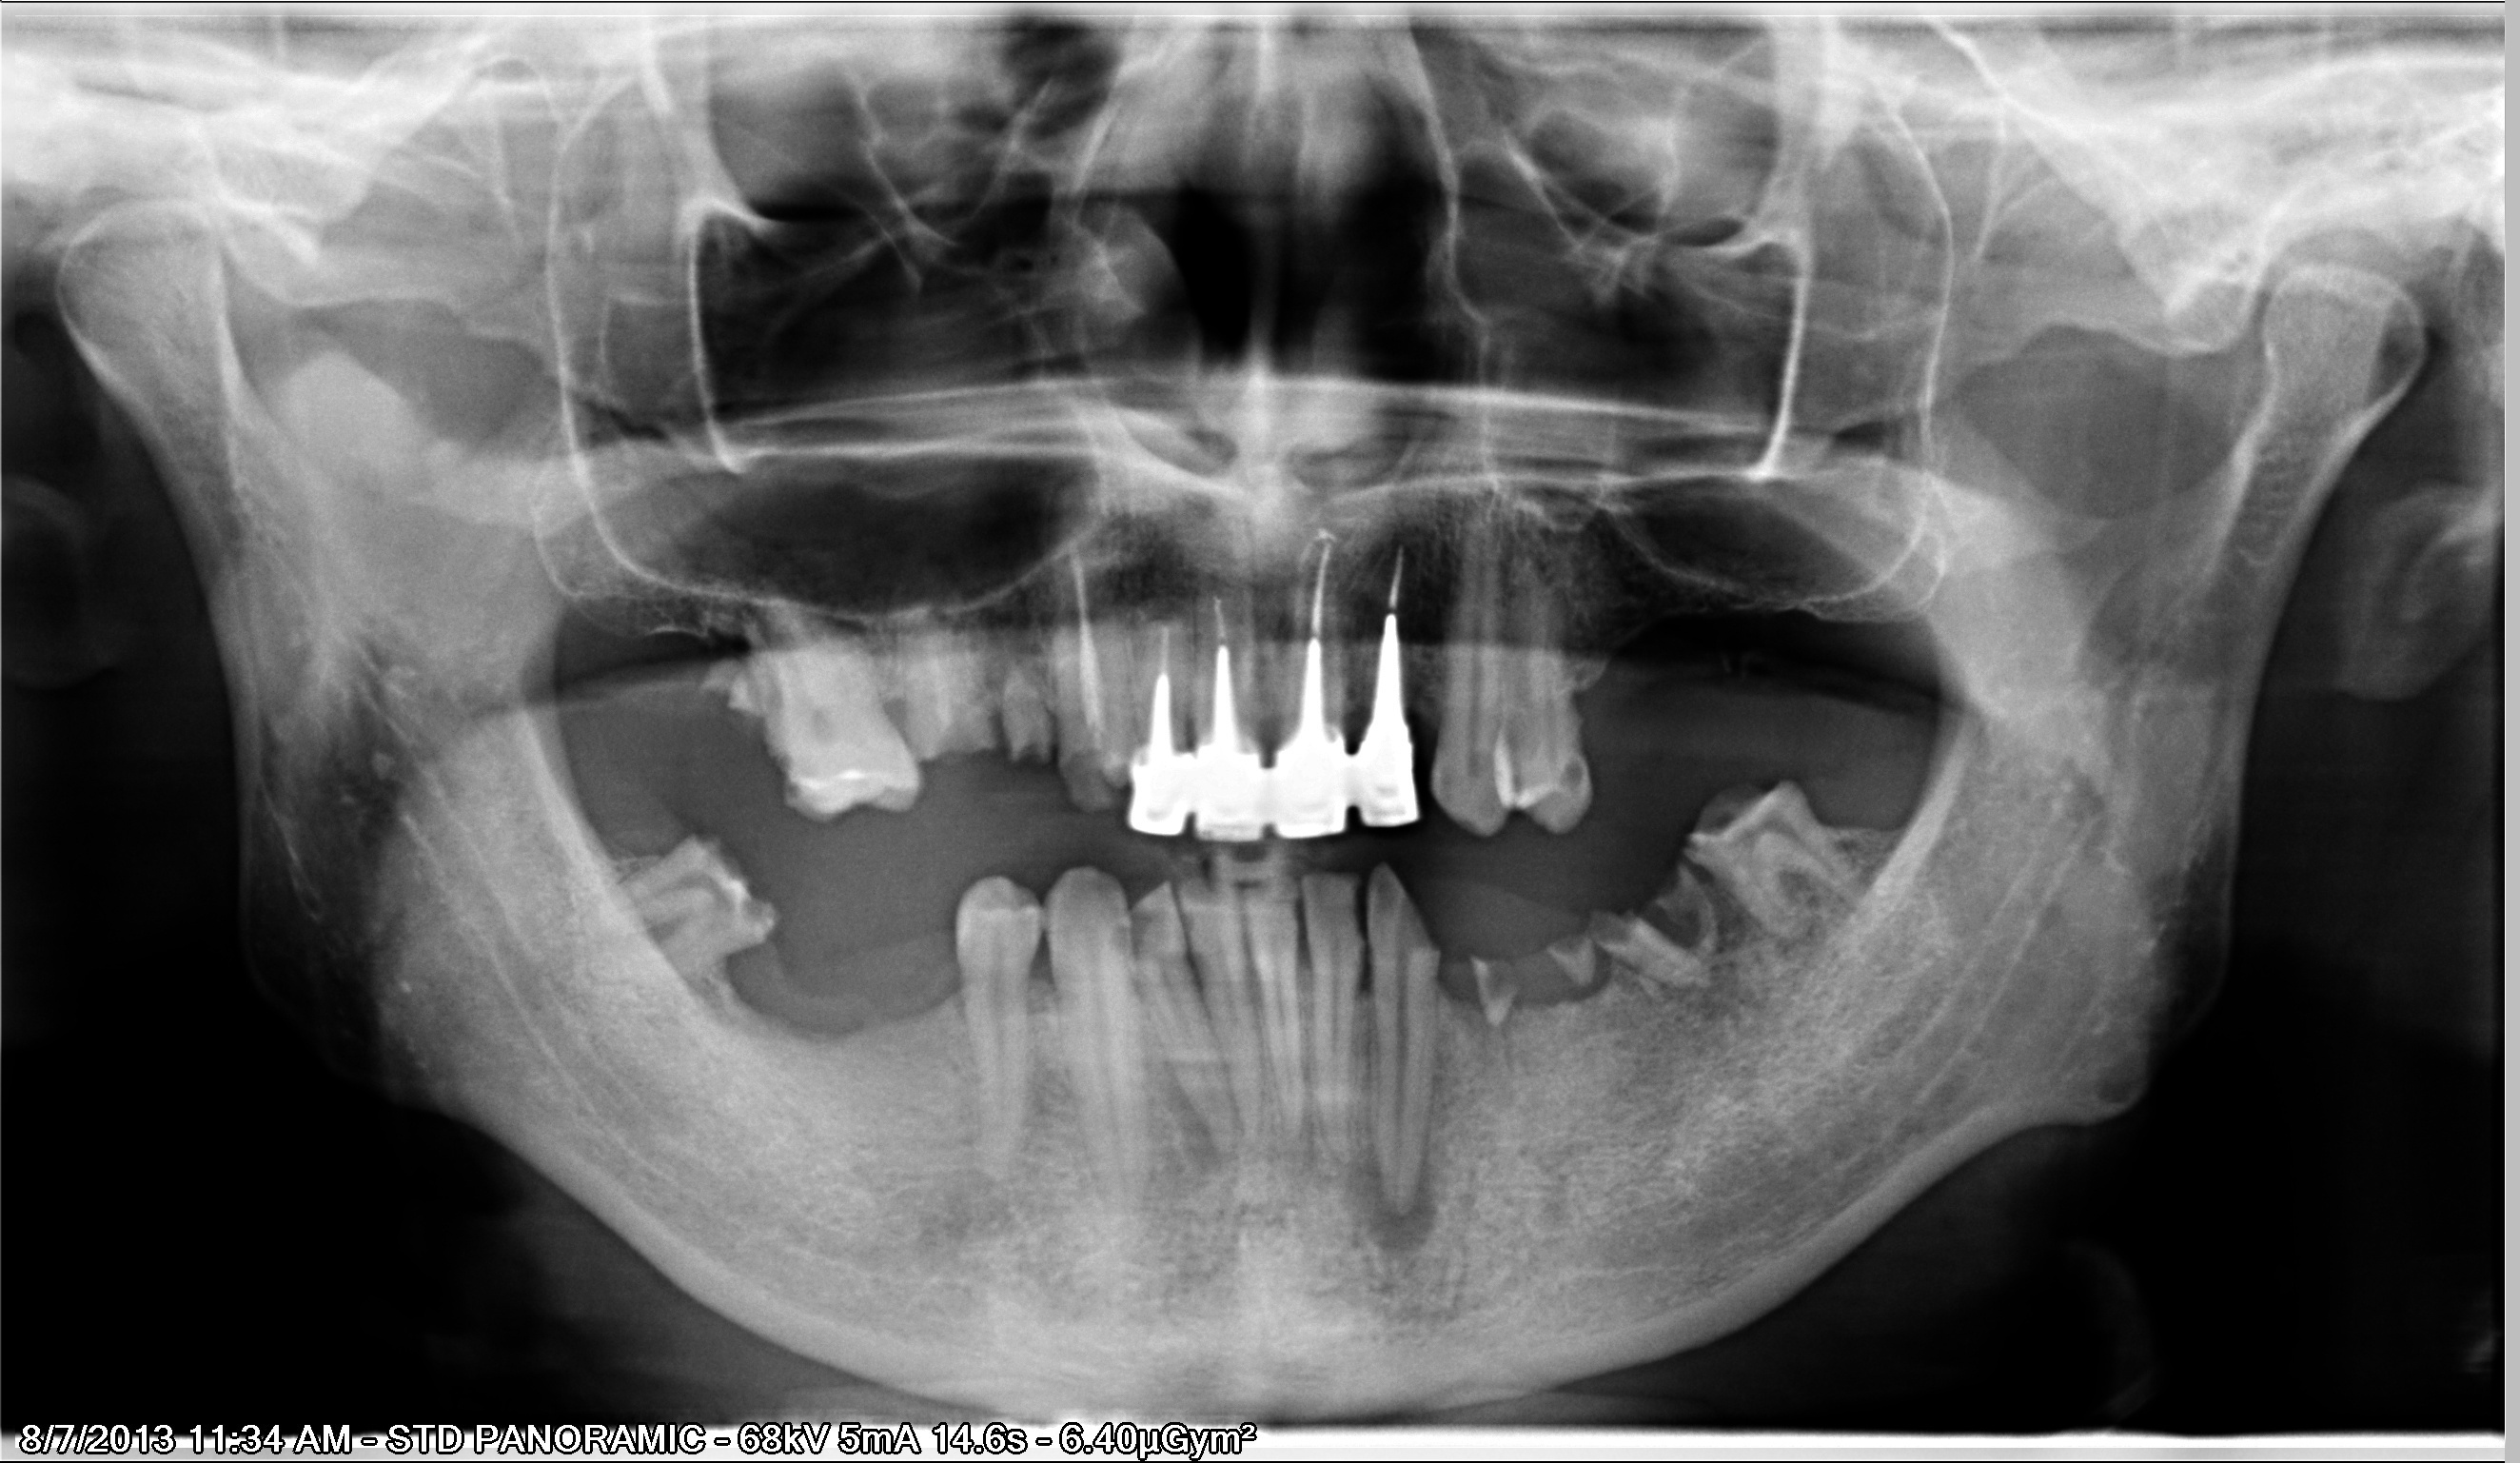API: (1164, 1057, 1239, 1174)
CAR: (766, 745, 802, 799)
END: (1070, 535, 1103, 747)
FUR: (647, 914, 686, 942)
PRR: (1129, 615, 1417, 839)
ROT: (901, 597, 999, 761)
